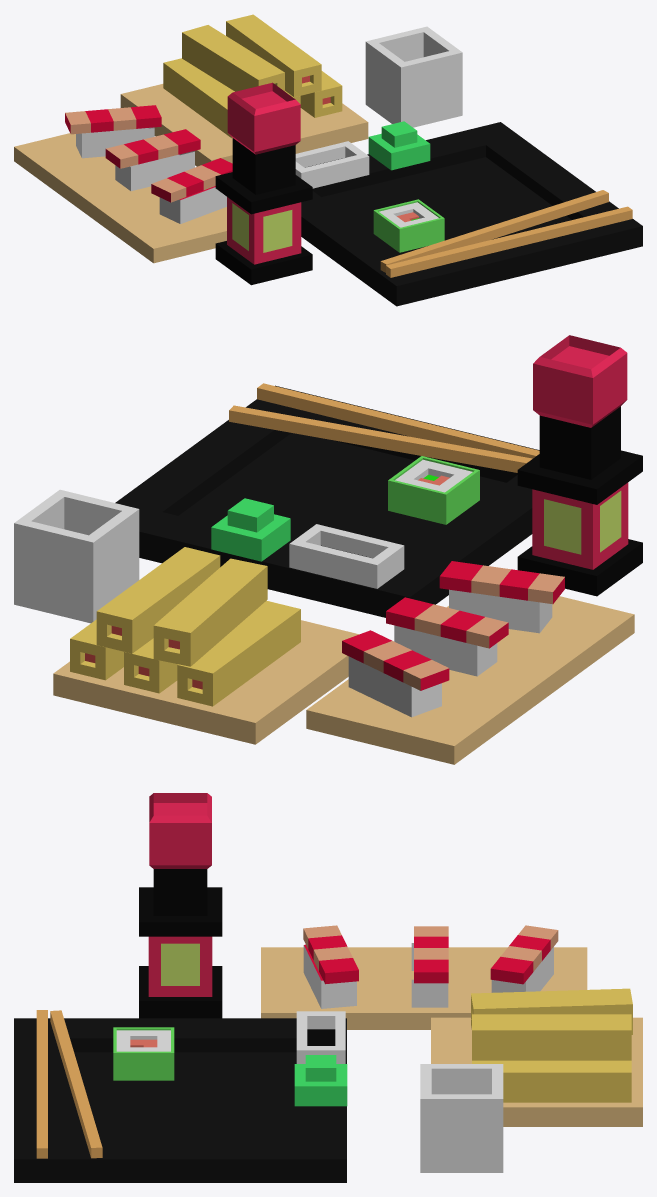
3 renders of one model, top to bottom at view 1: azimuth 30°, elevation 25°; view 2: azimuth 150°, elevation 25°; view 3: azimuth 270°, elevation 25°, orthographic. The views are drawn at different scales.
Visible parts, largest first — view 1: Plate, Plane.002, Plane.001, Plane.005, Plane.007, Plane.004, Cube.002, Cube.003, Sushi, Plane.006; view 2: Plate, Plane.002, Plane.001, Plane.007, Plane.005, Plane.004, Cube.003, Sushi, Cube.002, Plane.006; view 3: Plate, Plane.002, Plane.001, Plane.007, Plane.005, Plane.004, Sushi, Plane.006, Cube.003, Cube.002.
Boxes of the visible parts, x1,y1,x2,y2 form: Plate: [301, 122, 642, 306]; Plane.002: [120, 14, 368, 166]; Plane.001: [215, 82, 312, 285]; Plane.005: [295, 26, 462, 188]; Plane.007: [14, 133, 226, 263]; Plane.004: [65, 105, 232, 223]; Cube.002: [386, 206, 632, 277]; Cube.003: [380, 190, 608, 272]; Sushi: [373, 199, 444, 252]; Plane.006: [368, 121, 430, 170]; Plate: [115, 385, 539, 617]; Plane.002: [53, 547, 358, 744]; Plane.001: [517, 335, 642, 596]; Plane.007: [306, 596, 634, 764]; Plane.005: [14, 489, 404, 623]; Plane.004: [342, 561, 564, 717]; Cube.003: [229, 405, 532, 472]; Sushi: [388, 456, 479, 524]; Cube.002: [257, 383, 539, 458]; Plane.006: [211, 498, 290, 561]; Plate: [14, 1018, 346, 1182]; Plane.002: [431, 988, 642, 1126]; Plane.001: [139, 793, 222, 1018]; Plane.007: [261, 947, 587, 1029]; Plane.005: [296, 1011, 503, 1172]; Plane.004: [303, 925, 558, 1008]; Sushi: [113, 1027, 174, 1080]; Plane.006: [294, 1055, 347, 1106]; Cube.003: [50, 1010, 102, 1158]; Cube.002: [36, 1010, 47, 1158].
Size of what is drawn, in the model's own units: 12.46 by 5.4 by 15.11.
